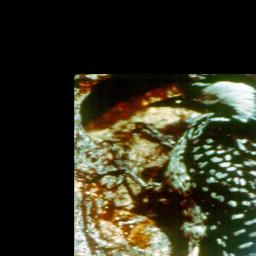Woodpecker: (87, 75, 256, 256)
